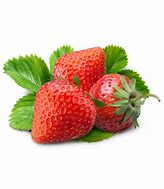Fresa: (31, 81, 97, 147), (90, 72, 141, 132), (52, 45, 108, 91)
